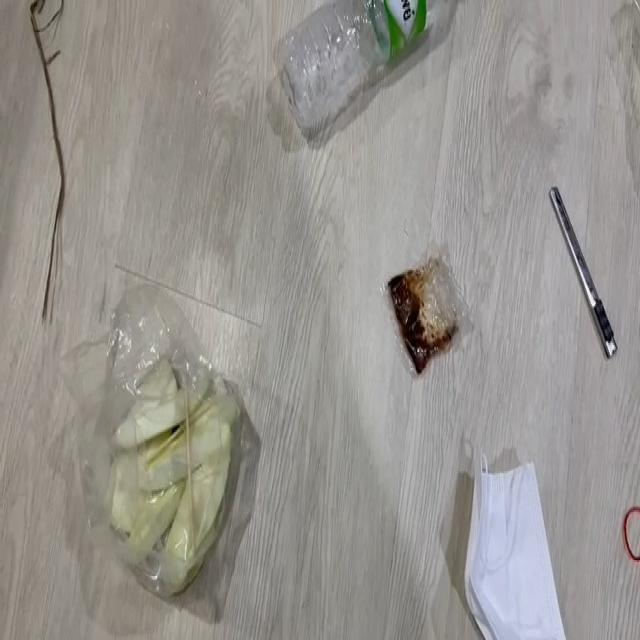Anorganik: (264, 0, 448, 130), (544, 174, 640, 354), (613, 504, 640, 564)
B3: (98, 332, 259, 581), (446, 431, 581, 640), (377, 243, 478, 377), (23, 0, 64, 302)
